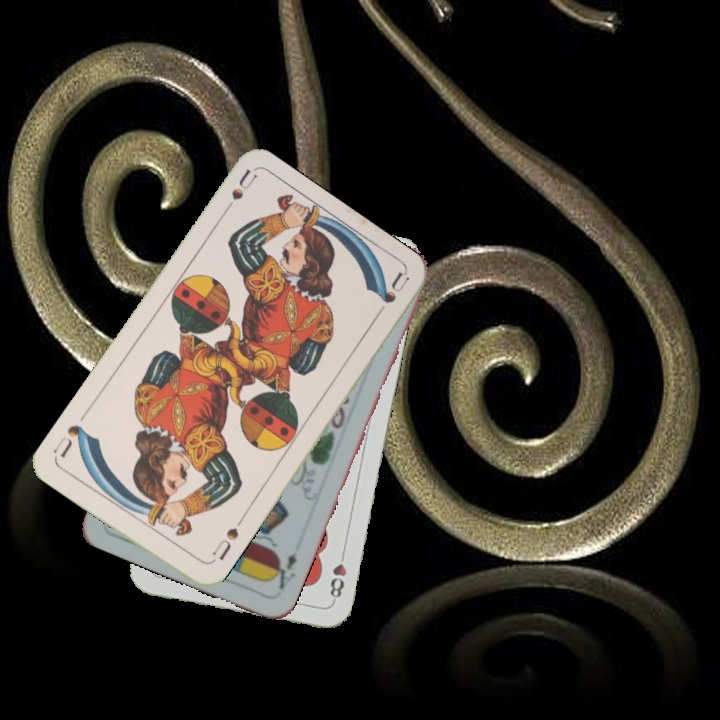EA: (271, 548, 300, 592)
H8: (326, 546, 349, 605)
SU: (216, 166, 259, 221), (205, 515, 246, 566)
